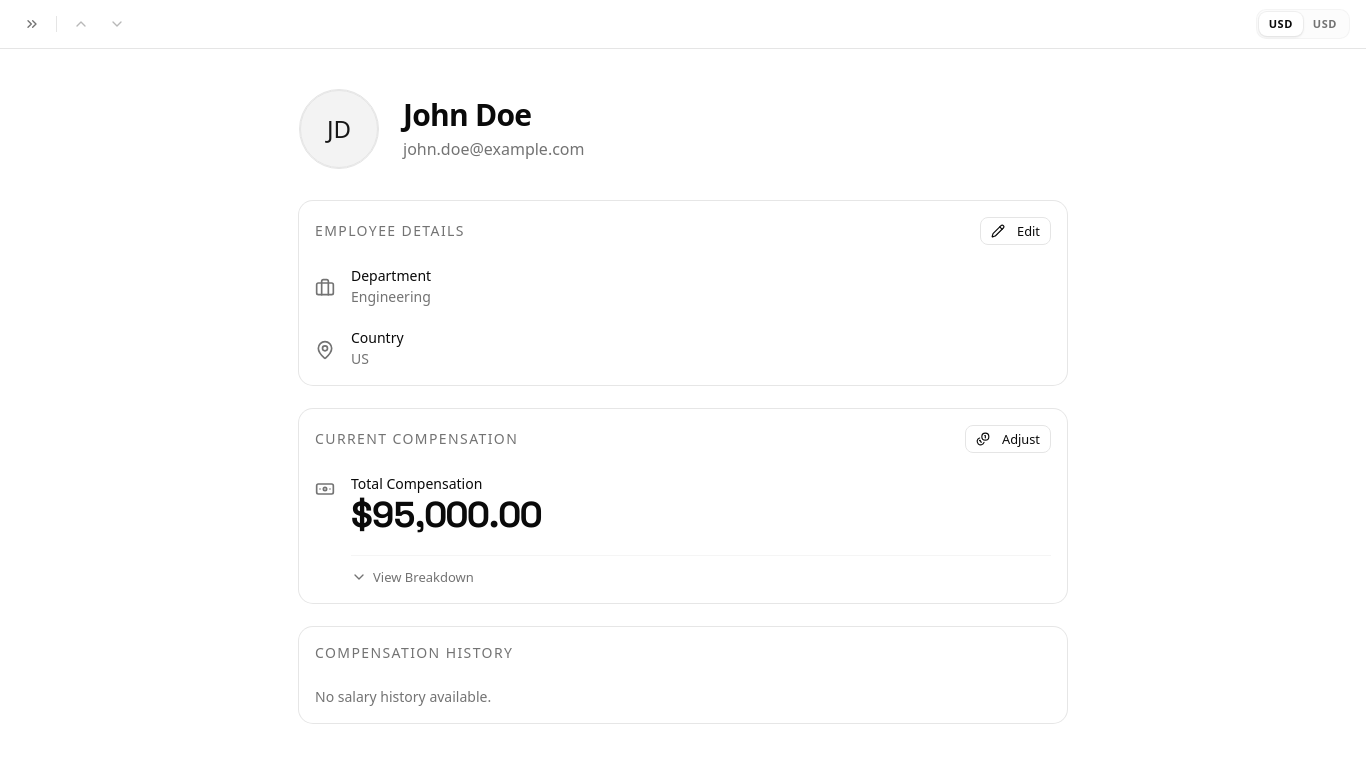
EmployeeProfilePane › renders granular salary components if they exist in current_salary
What coordinates should you click on to do the following:
click the button "View Breakdown"
I would click on:
 (412, 577)
Its box is [351,568,474,587].
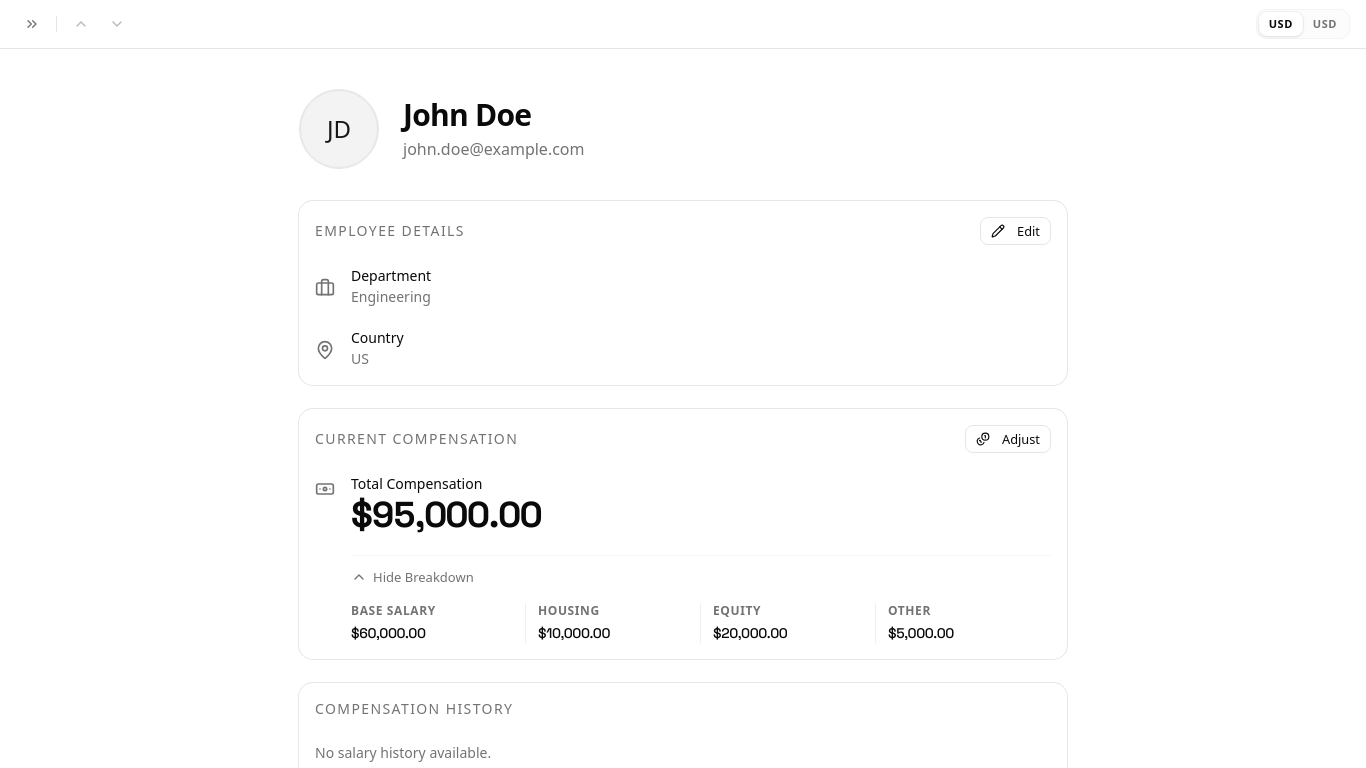
Expected: the text "Base Salary" is shown, [351,602,436,619]
Expected: the text "$60,000.00" is shown, [351,624,426,642]
Expected: the text "Housing" is shown, [538,602,600,619]
